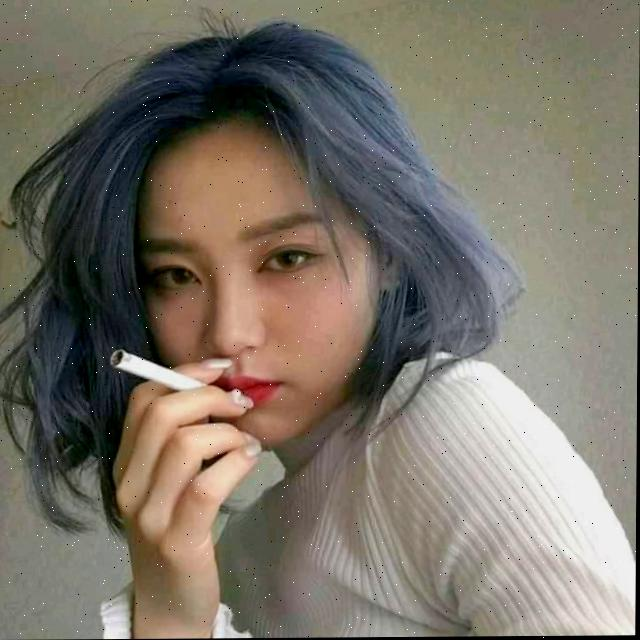cigarette: (110, 348, 207, 392)
